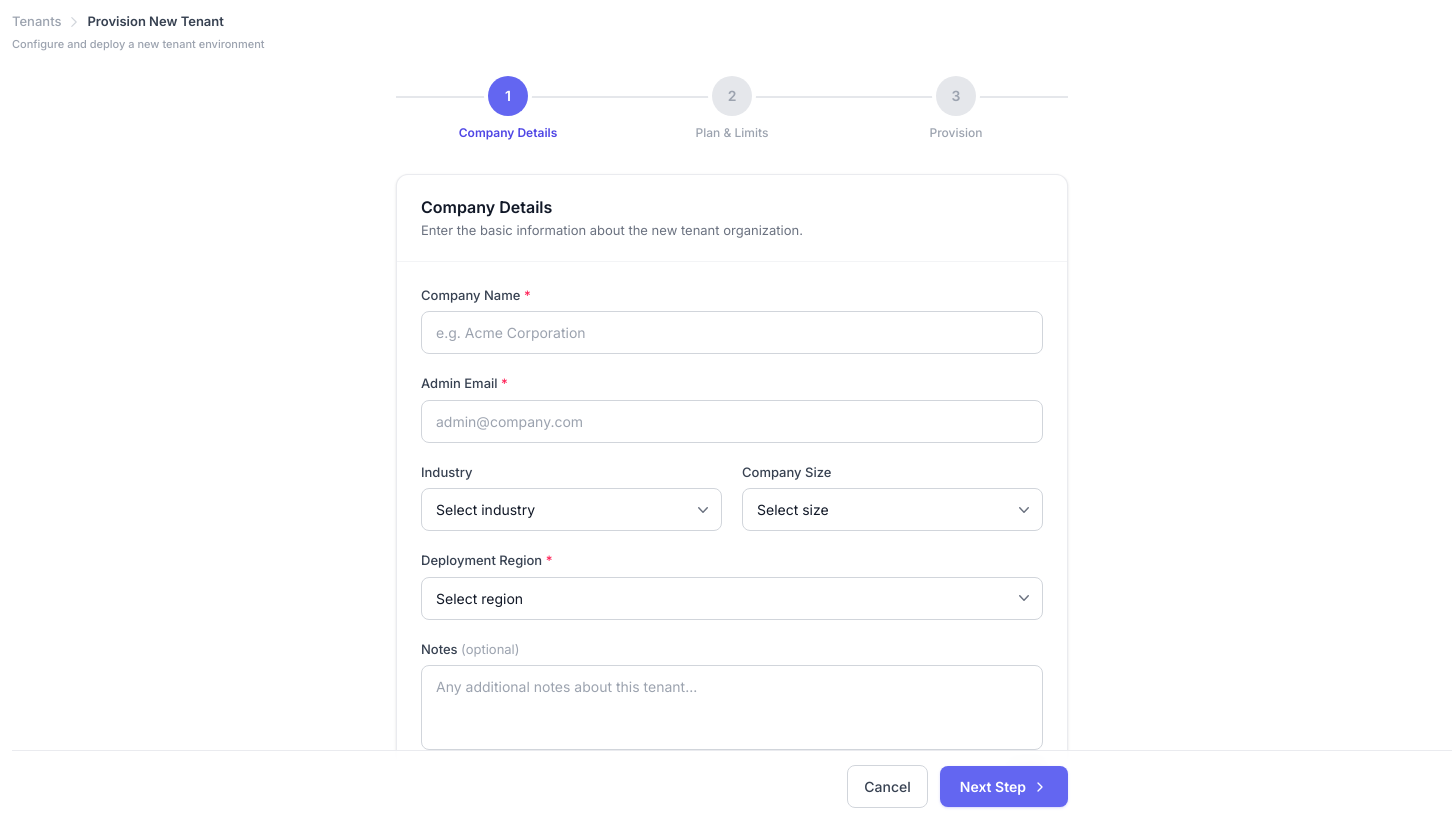
Scenario: Provisioning Wizard Integration › validation prevents advancing › should show deployment region error when not selected
Fill company name and email but not region
Type "Valid Company" into the field labelled "Company Name *" at (732, 332), box [421,311,1043,354]
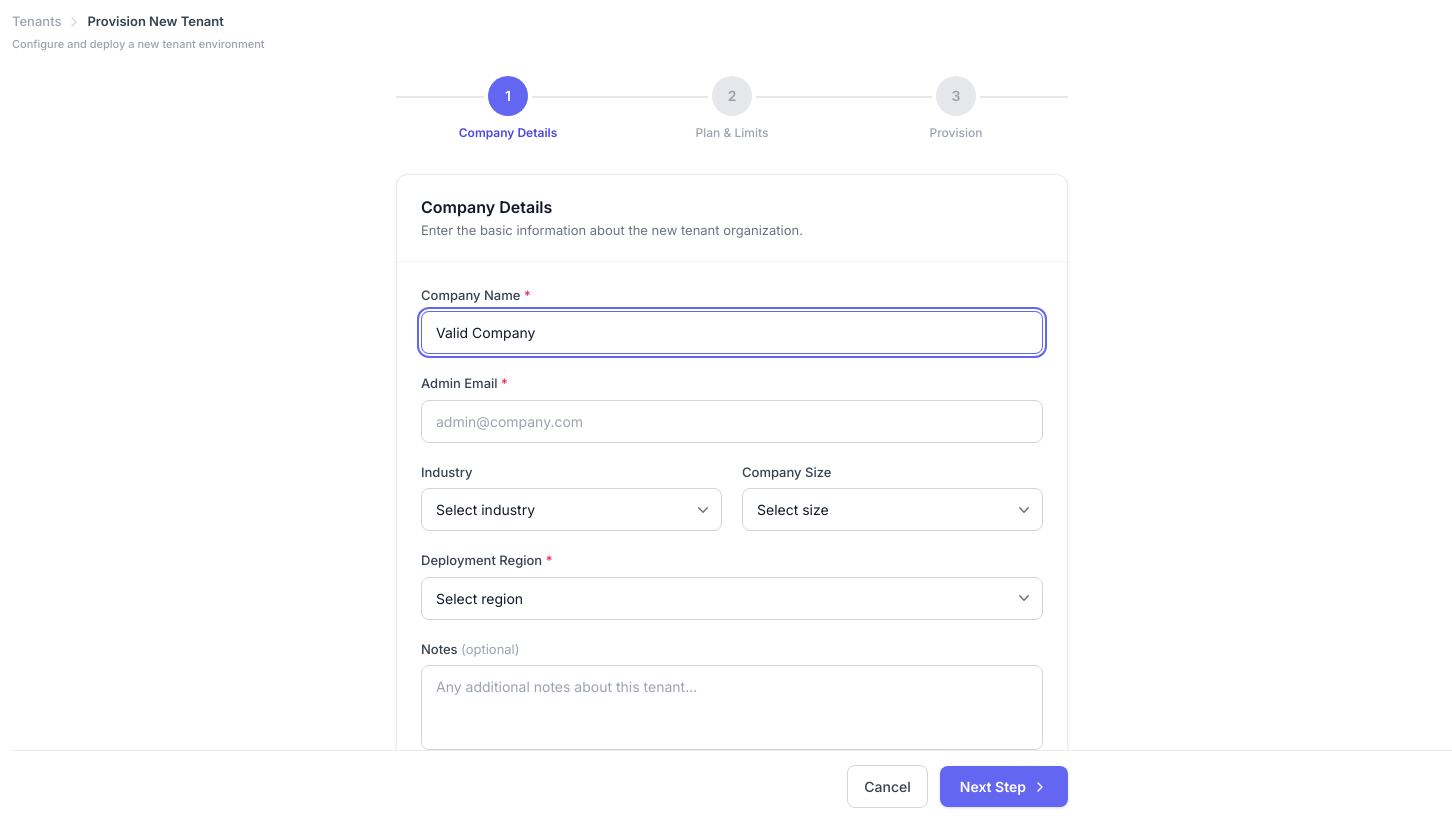
Type "admin@valid.com" into the field labelled "Admin Email *" at (732, 421), box [421,400,1043,442]
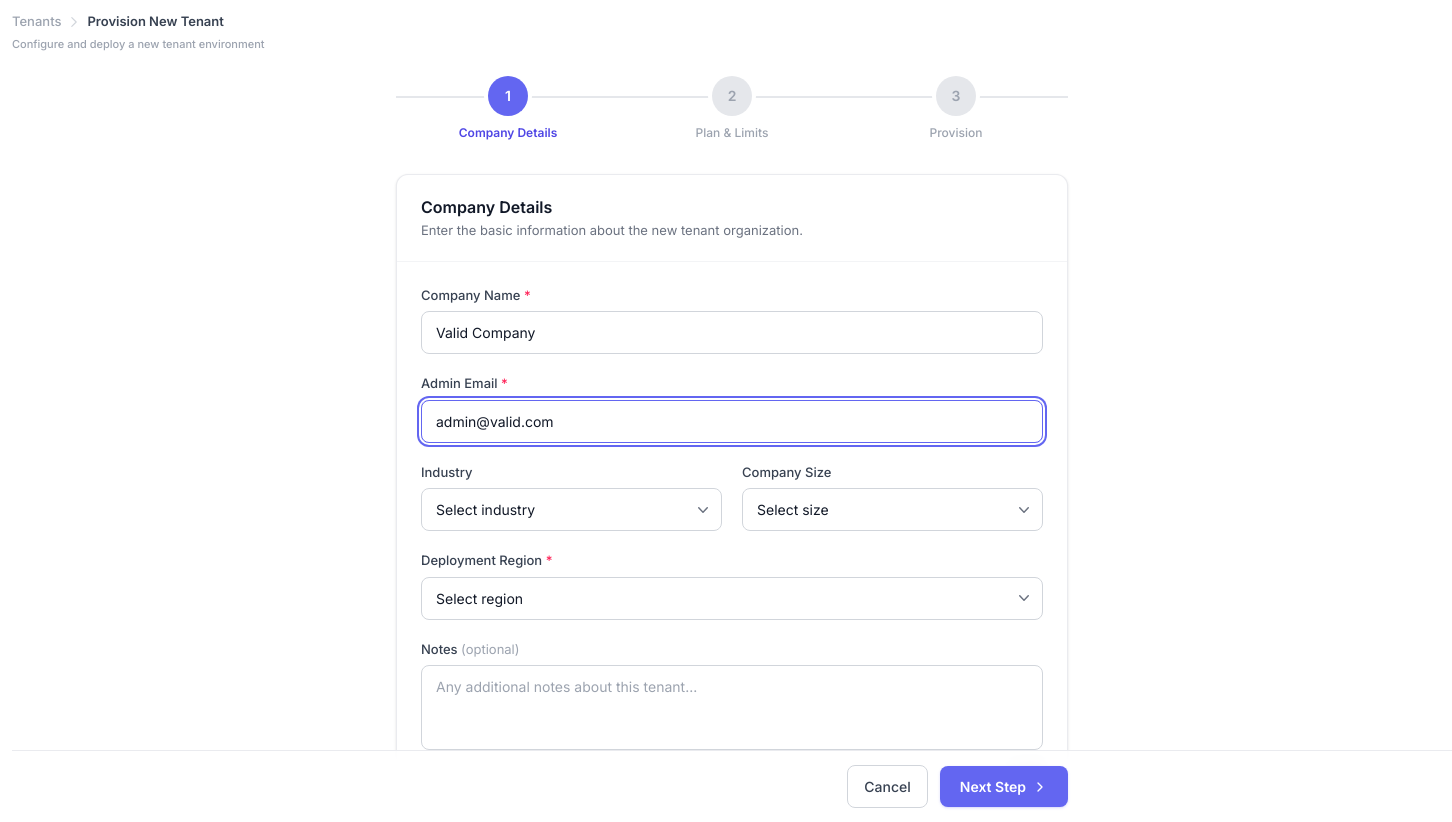
Click the button with test id "next-button" at (1004, 786), box [940,766,1068,807]
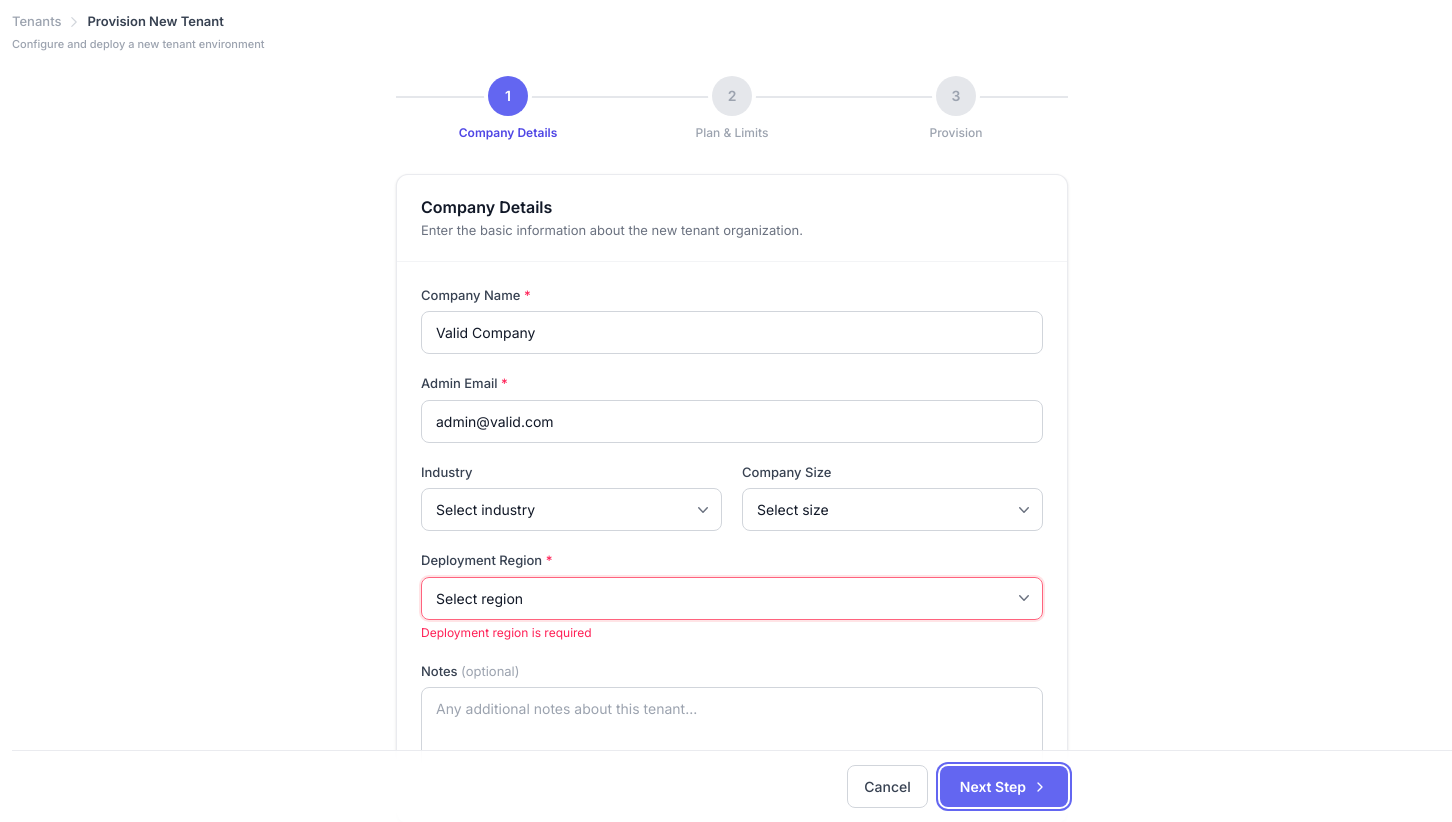
Expected: the text "Deployment region is required" is shown, [421,624,592,640]
